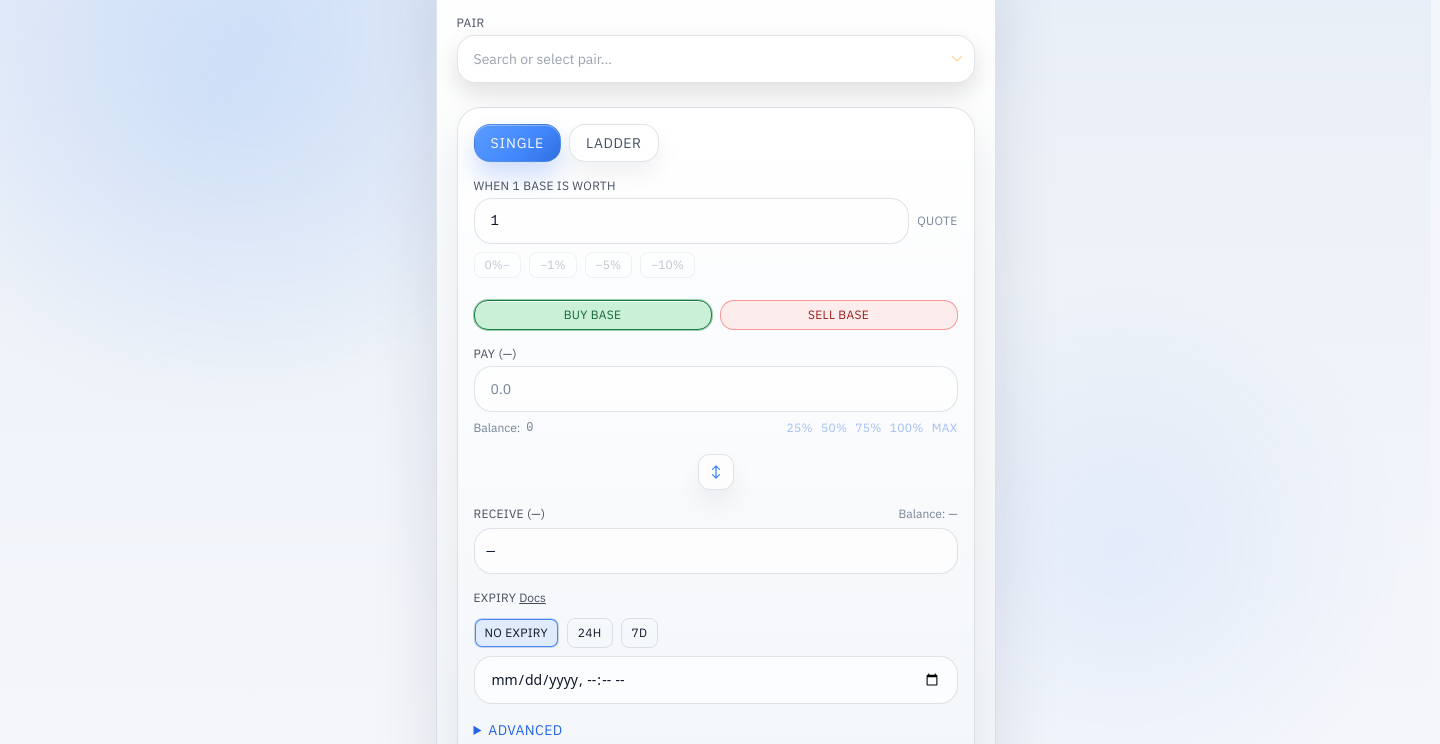
LimitOrdersPage › book Edit prefills ticket with orderId and shows editing context (GitLab #312 / #294)
The width and height of the screenshot is (1440, 744).
Click the dropdown named "Trading pair" at coordinates (716, 59), box [456, 35, 974, 83]
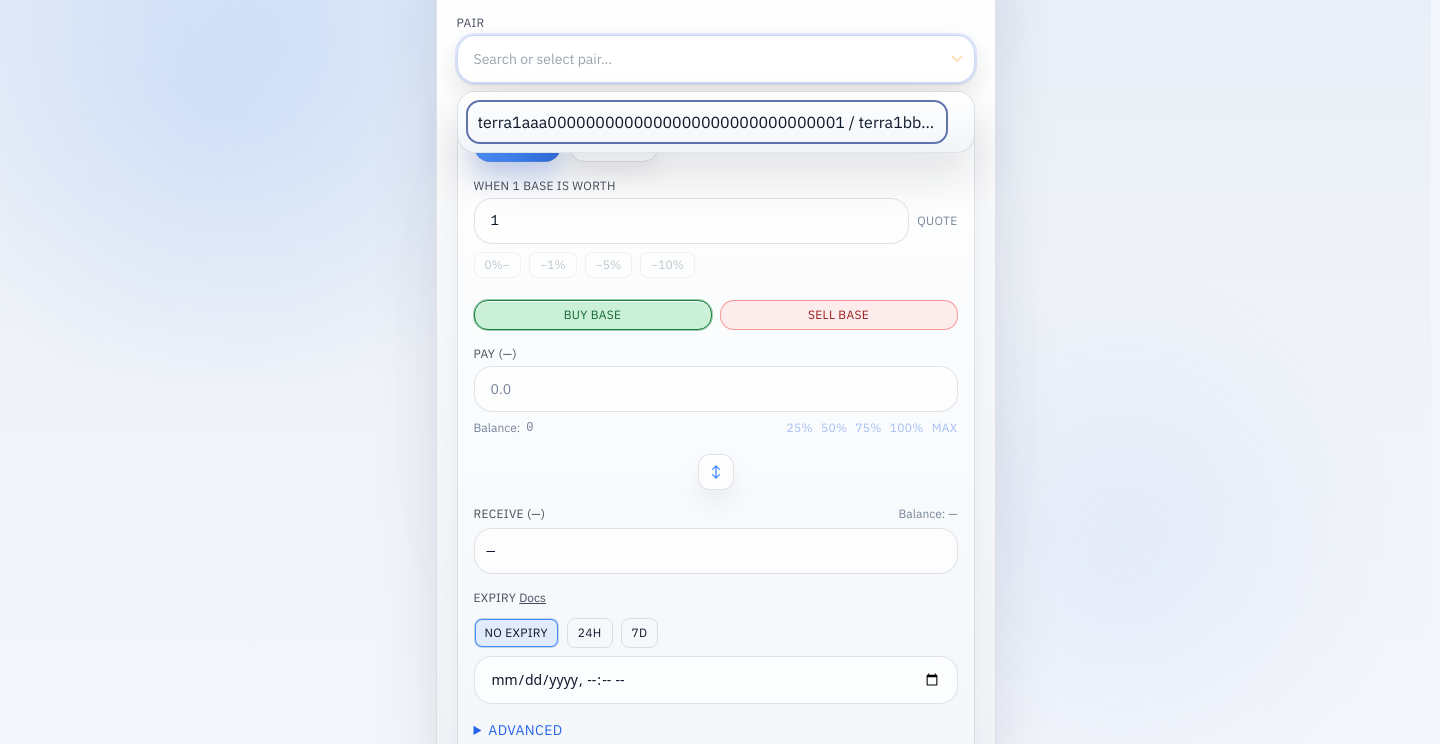
Click the option at coordinates (706, 122), box [466, 100, 948, 144]
(page scrolled)
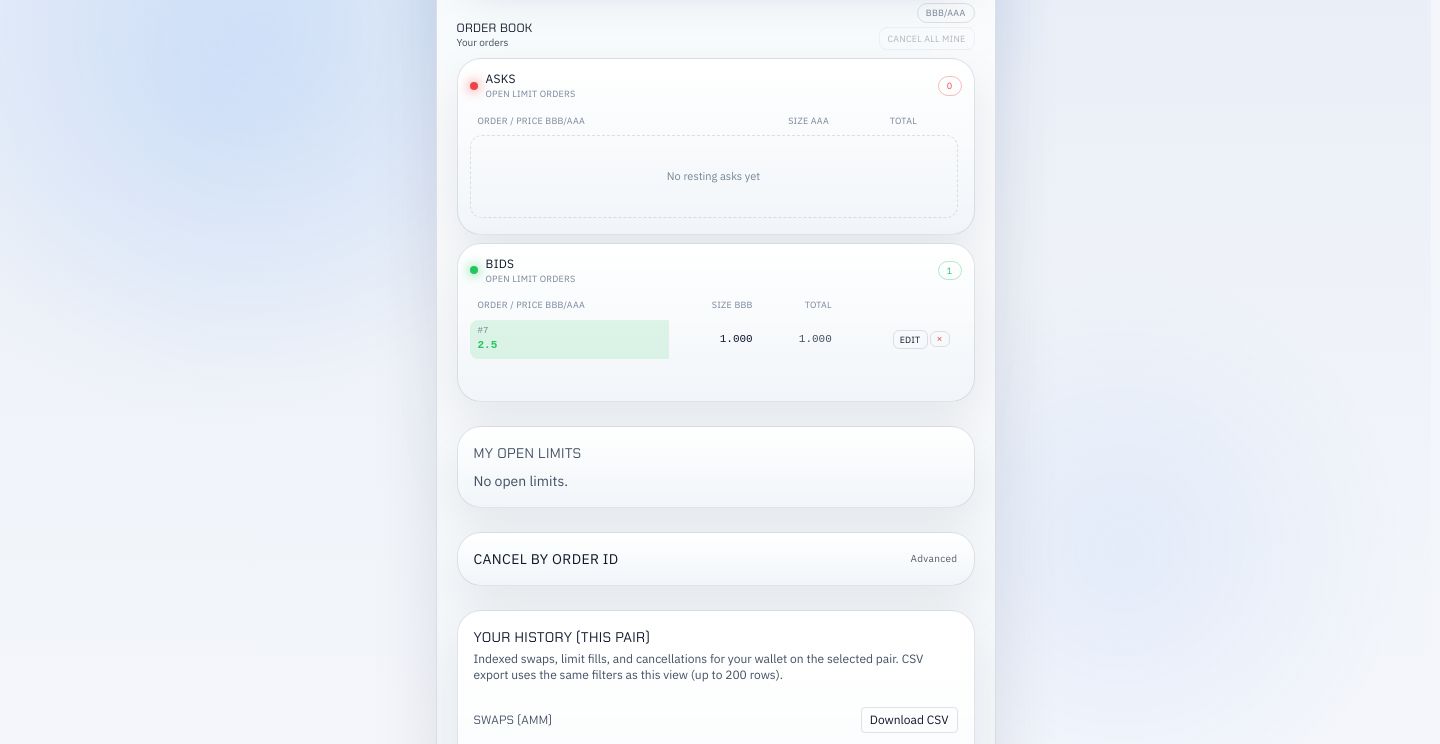
Click the button with test id "trade-book-edit-bid-7" at coordinates (910, 339), box [893, 330, 928, 349]
(page scrolled)
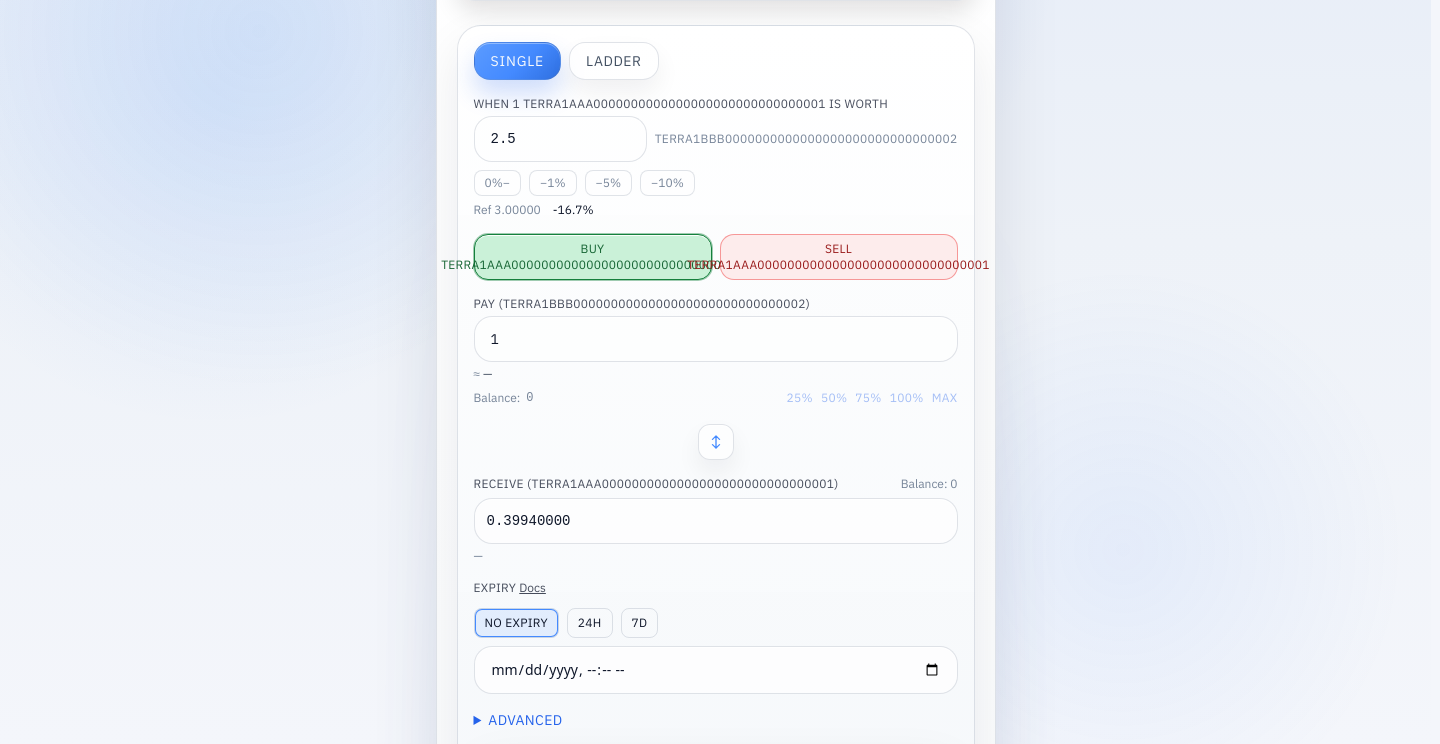
Check: the field with test id "limit-order-price-input" holds "2.5", box [474, 116, 647, 162]
Check: the field with test id "limit-order-escrow-amount-input" holds "1", box [474, 316, 958, 362]
